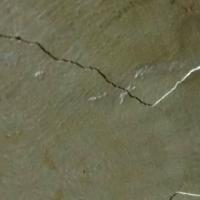crack: (1, 19, 200, 130)
